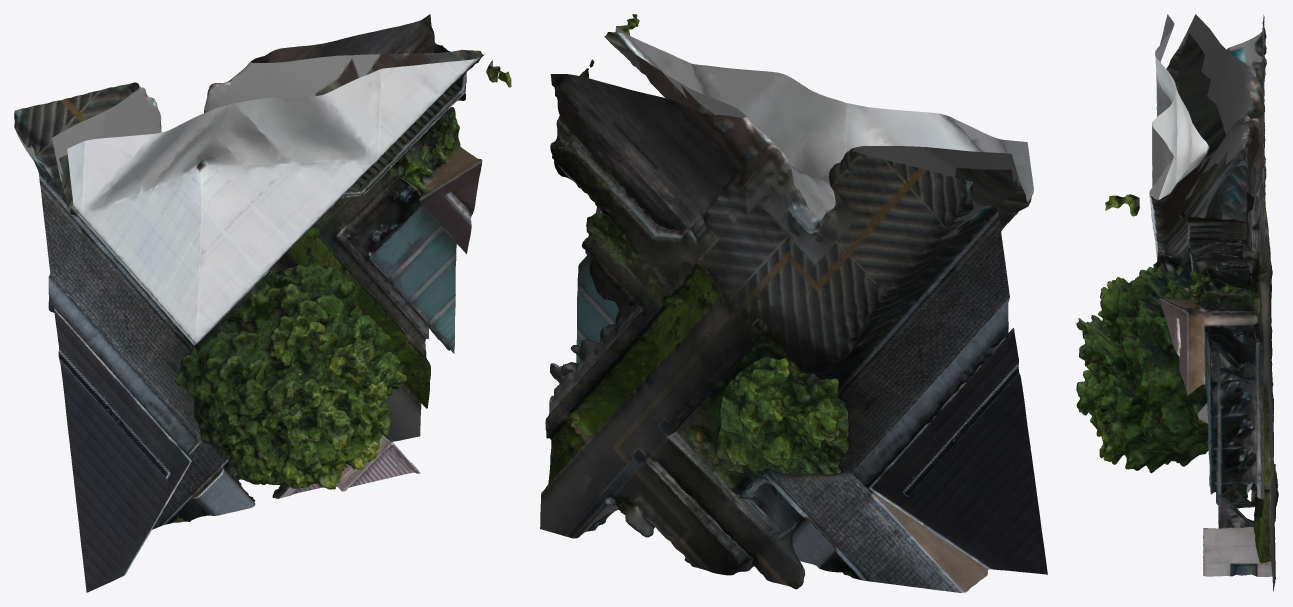
Rendered from Tile_+014_+011.fbx.
3 views of the same model, side by side, from view 1: azimuth 30°, elevation 25°; view 2: azimuth 150°, elevation 25°; view 3: azimuth 270°, elevation 25° (orthographic). The views are drawn at different scales.
Visible parts, largest first — view 1: DefaultName; view 2: DefaultName; view 3: DefaultName.
Boxes of the visible parts, bbox=[...] form: DefaultName: bbox=[14, 14, 511, 592]; DefaultName: bbox=[540, 14, 1047, 592]; DefaultName: bbox=[1076, 14, 1278, 591].
Size of the model in its own units: 22.54 by 22.54 by 10.49.
